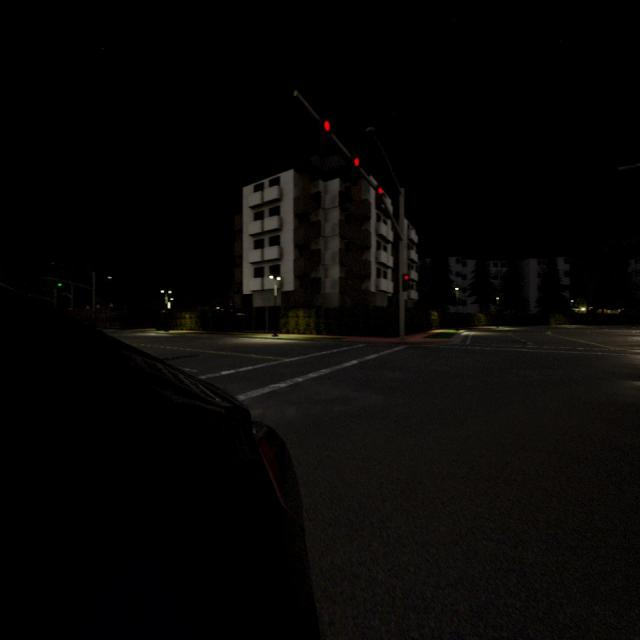Vehicle: (0, 290, 319, 640)
traffic_light: (323, 120, 329, 145), (353, 158, 359, 181), (402, 273, 408, 292), (376, 187, 382, 203)
